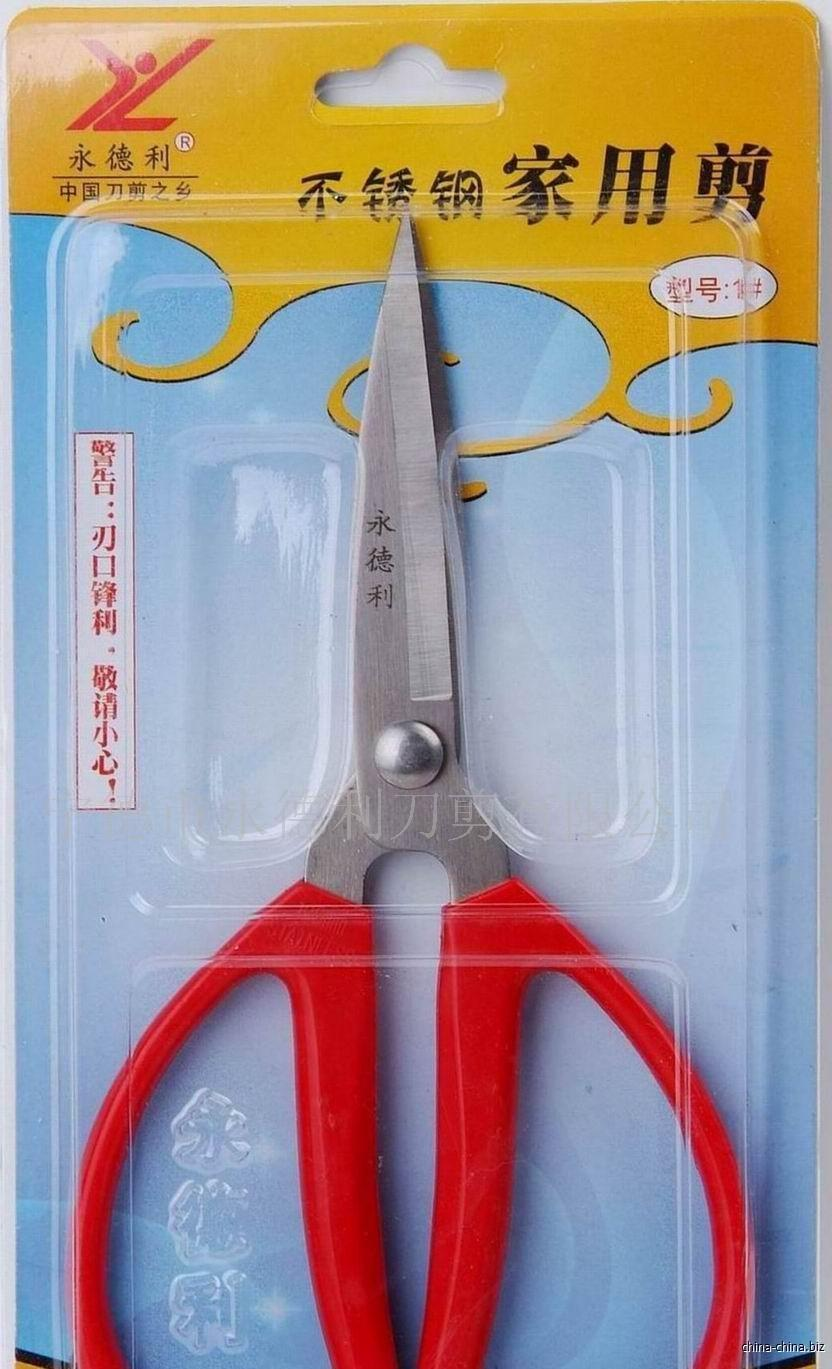scissor: (62, 156, 779, 1369)
